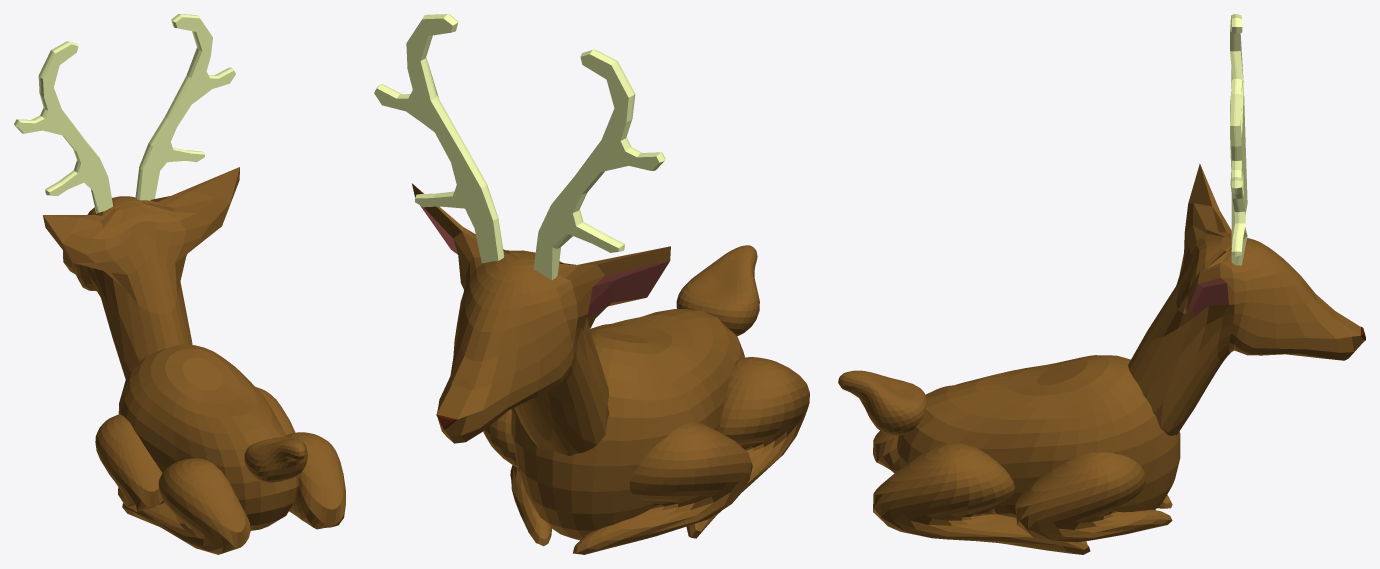
The model's file is deer.fbx.
3 views of the same model, side by side, from view 1: azimuth 30°, elevation 25°; view 2: azimuth 150°, elevation 25°; view 3: azimuth 270°, elevation 25° (orthographic). The views are drawn at different scales.
Parts seen in each view (by area): view 1: body, horns; view 2: body, horns; view 3: body, horns.
Part boxes in pixels (box(x1,y1,x2,y2)): body: box(43, 167, 345, 554); horns: box(14, 14, 235, 213); body: box(412, 183, 809, 554); horns: box(374, 14, 665, 280); body: box(838, 163, 1365, 554); horns: box(1230, 14, 1247, 265).
Size of the model in its own units: 562 by 1043 by 1041.
